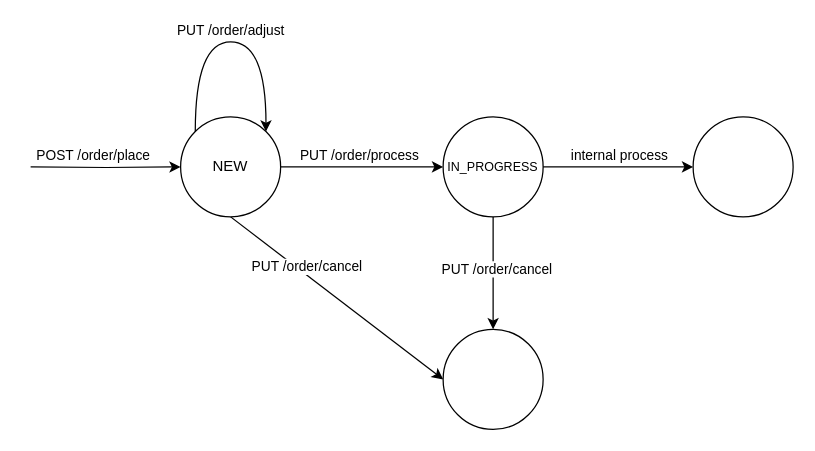
This 815x451 diagram has some shape labels left out. The shapes that lost their labels are listed below. From the top down, each one's centre as x and y in pixels, then its label:
At pixel 742 166: "COMPLETED".
At pixel 492 378: "CANCELED".
